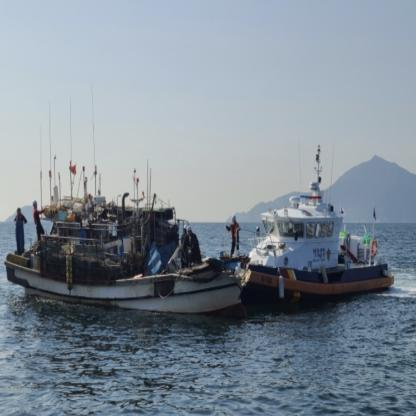fish-b: (0, 155, 258, 332), (242, 154, 404, 322)
